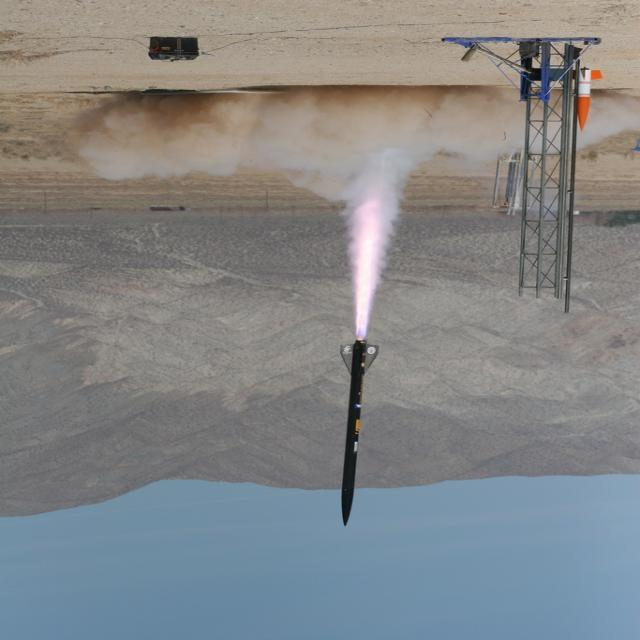Missile: (331, 326, 382, 534), (575, 70, 598, 134)
